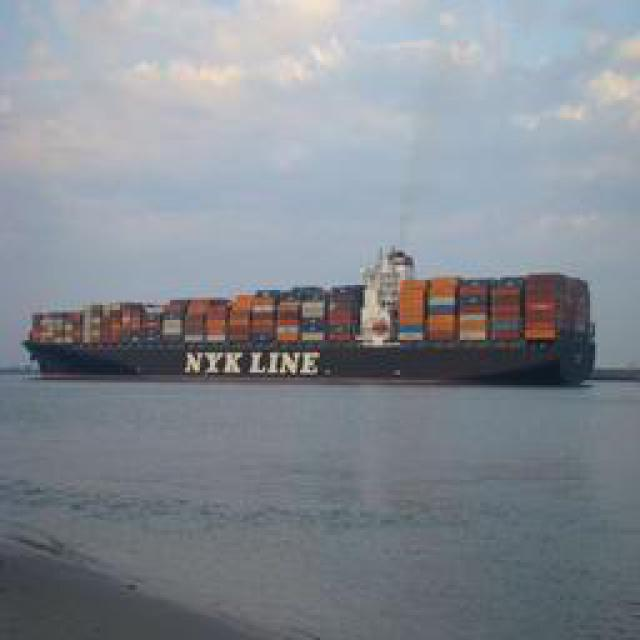Ship: (18, 230, 613, 400)
